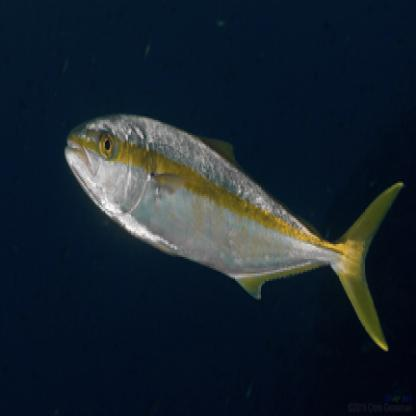Carangidae -Jacks-: (61, 101, 411, 360)
